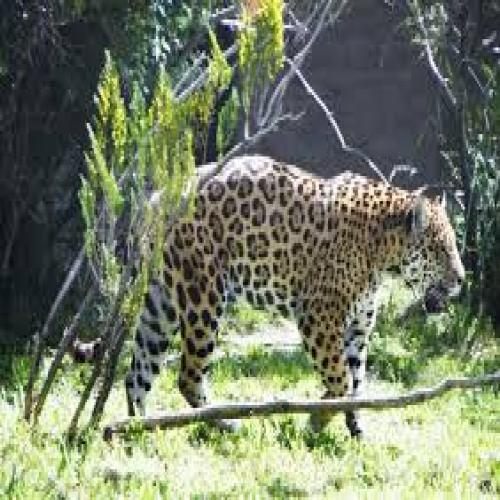jaguar_not-endangered: (109, 163, 463, 424)
